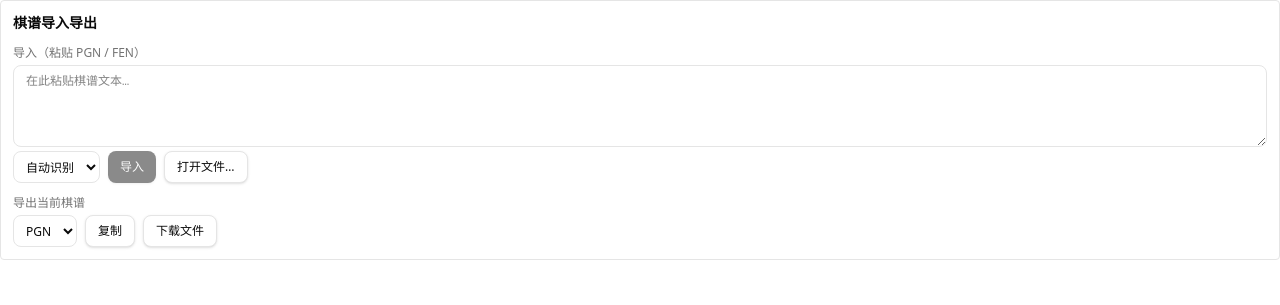
GameCodec › shows an error message when import fails
The image size is (1280, 305).
Type "garbage" into the text box with test id "codec-import" at (640, 106), box [13, 65, 1267, 147]
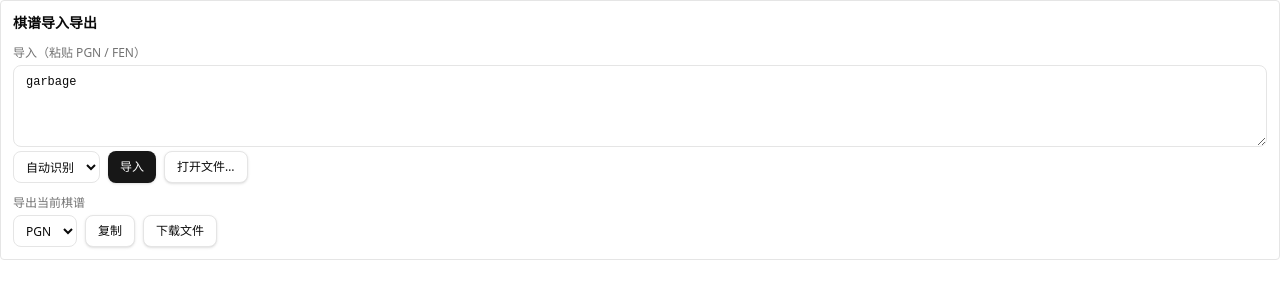
Click the button with test id "codec-import-button" at (132, 167), box [108, 151, 156, 183]
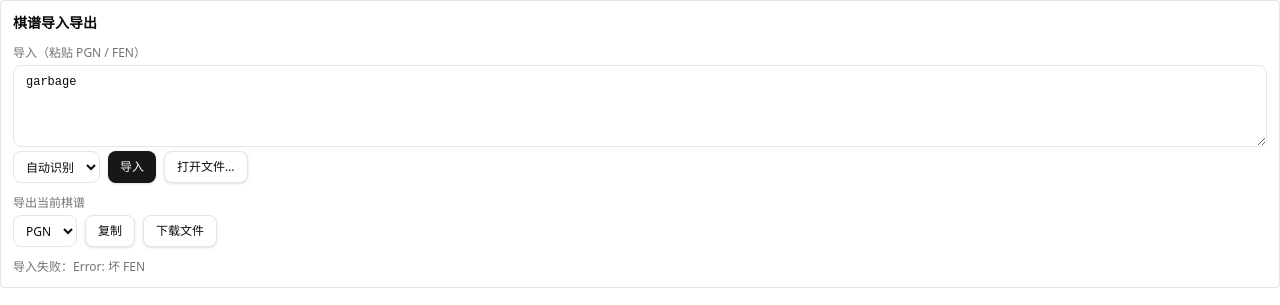
Now the text with test id "codec-message" shows "导入失败", box [13, 258, 145, 275]
